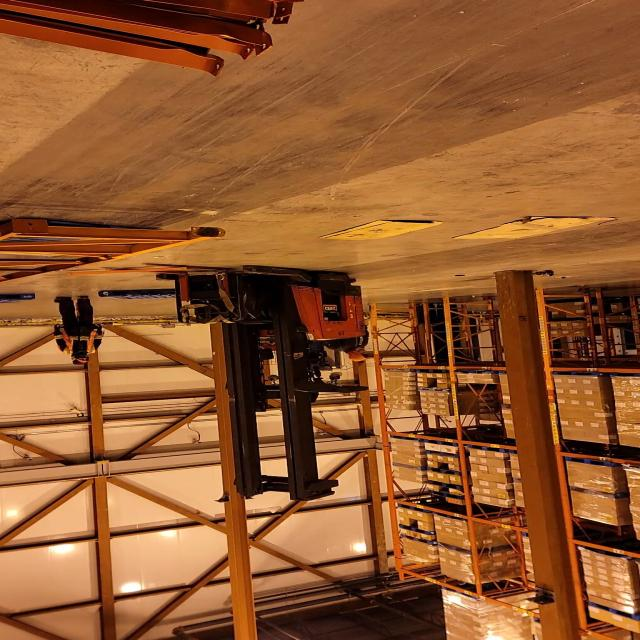forklift: (154, 268, 372, 493)
human: (44, 291, 108, 367), (316, 307, 378, 367)
objectofinterest: (0, 214, 233, 285), (450, 210, 622, 243), (311, 216, 448, 242), (94, 285, 184, 303), (0, 288, 39, 307)
